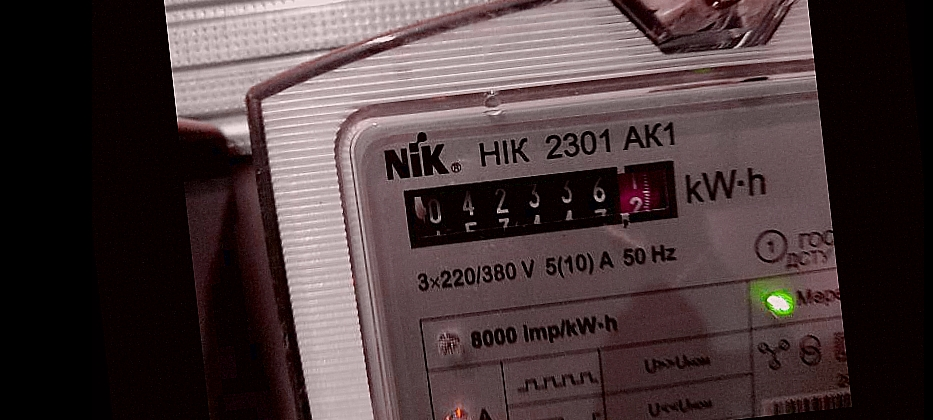0: (425, 195, 444, 225)
1: (626, 168, 641, 191)
2: (492, 184, 511, 215), (627, 193, 645, 213)
3: (556, 174, 575, 206), (524, 180, 542, 209)
4: (459, 187, 479, 217)
6: (590, 172, 610, 204)
screen: (391, 146, 694, 258)
